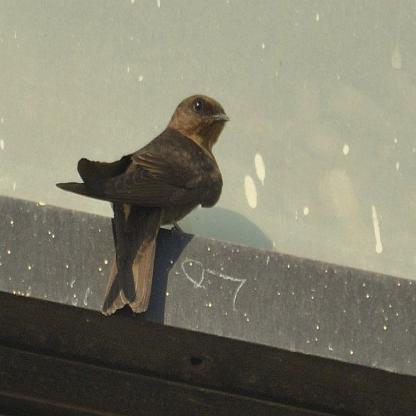Burung: (56, 94, 230, 318)
